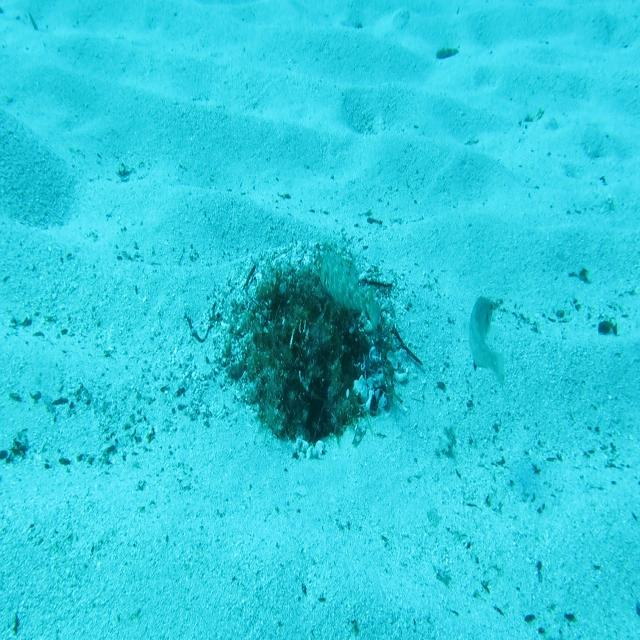INSF: (315, 243, 384, 337)
core_nest: (281, 288, 329, 326)
female: (468, 292, 508, 395)
nest: (207, 237, 413, 468)
vegetation: (434, 44, 460, 64)
